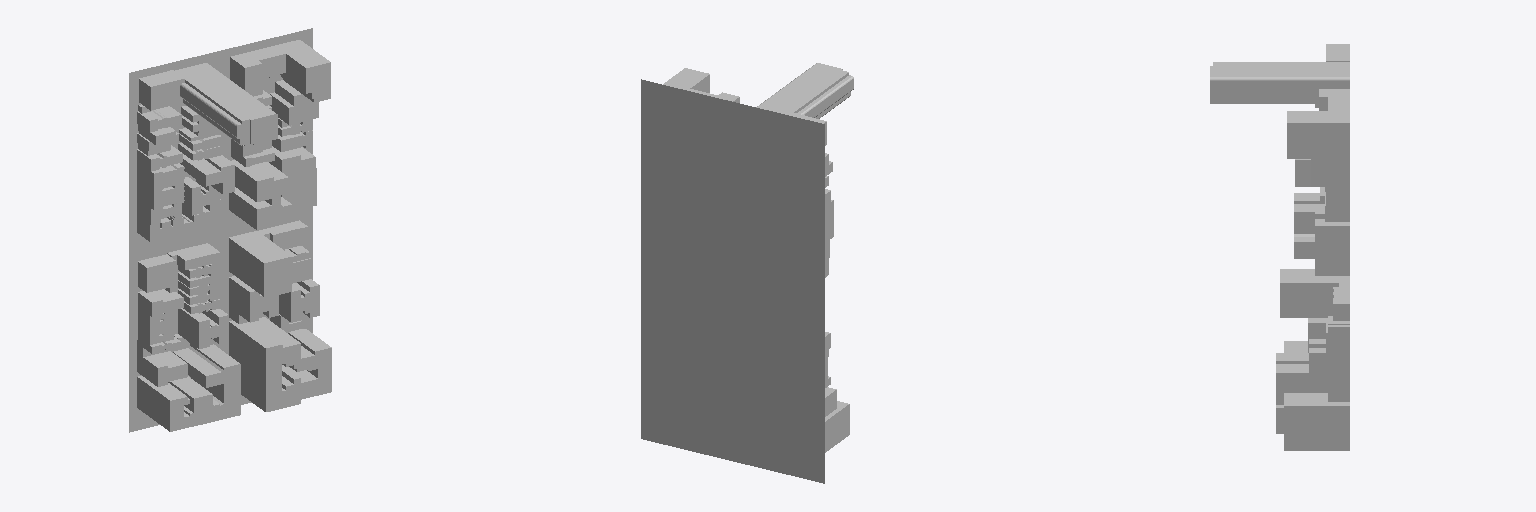
File: manhattan_small.obj
The picture shows the model from 3 angles: view 1: azimuth 30°, elevation 25°; view 2: azimuth 150°, elevation 25°; view 3: azimuth 270°, elevation 25°; orthographic projection.
Parts seen in each view (by area): view 1: map_2.osm_buildings, Plane.001; view 2: Plane.001, map_2.osm_buildings; view 3: map_2.osm_buildings.
Boxes of the visible parts, box(x1,y1,x2,y2) form: map_2.osm_buildings: box(137, 40, 331, 431); Plane.001: box(129, 28, 312, 432); Plane.001: box(641, 79, 824, 483); map_2.osm_buildings: box(663, 63, 853, 452); map_2.osm_buildings: box(1210, 44, 1349, 450).
Bounding box in the file's own units: 160 × 300 × 106.